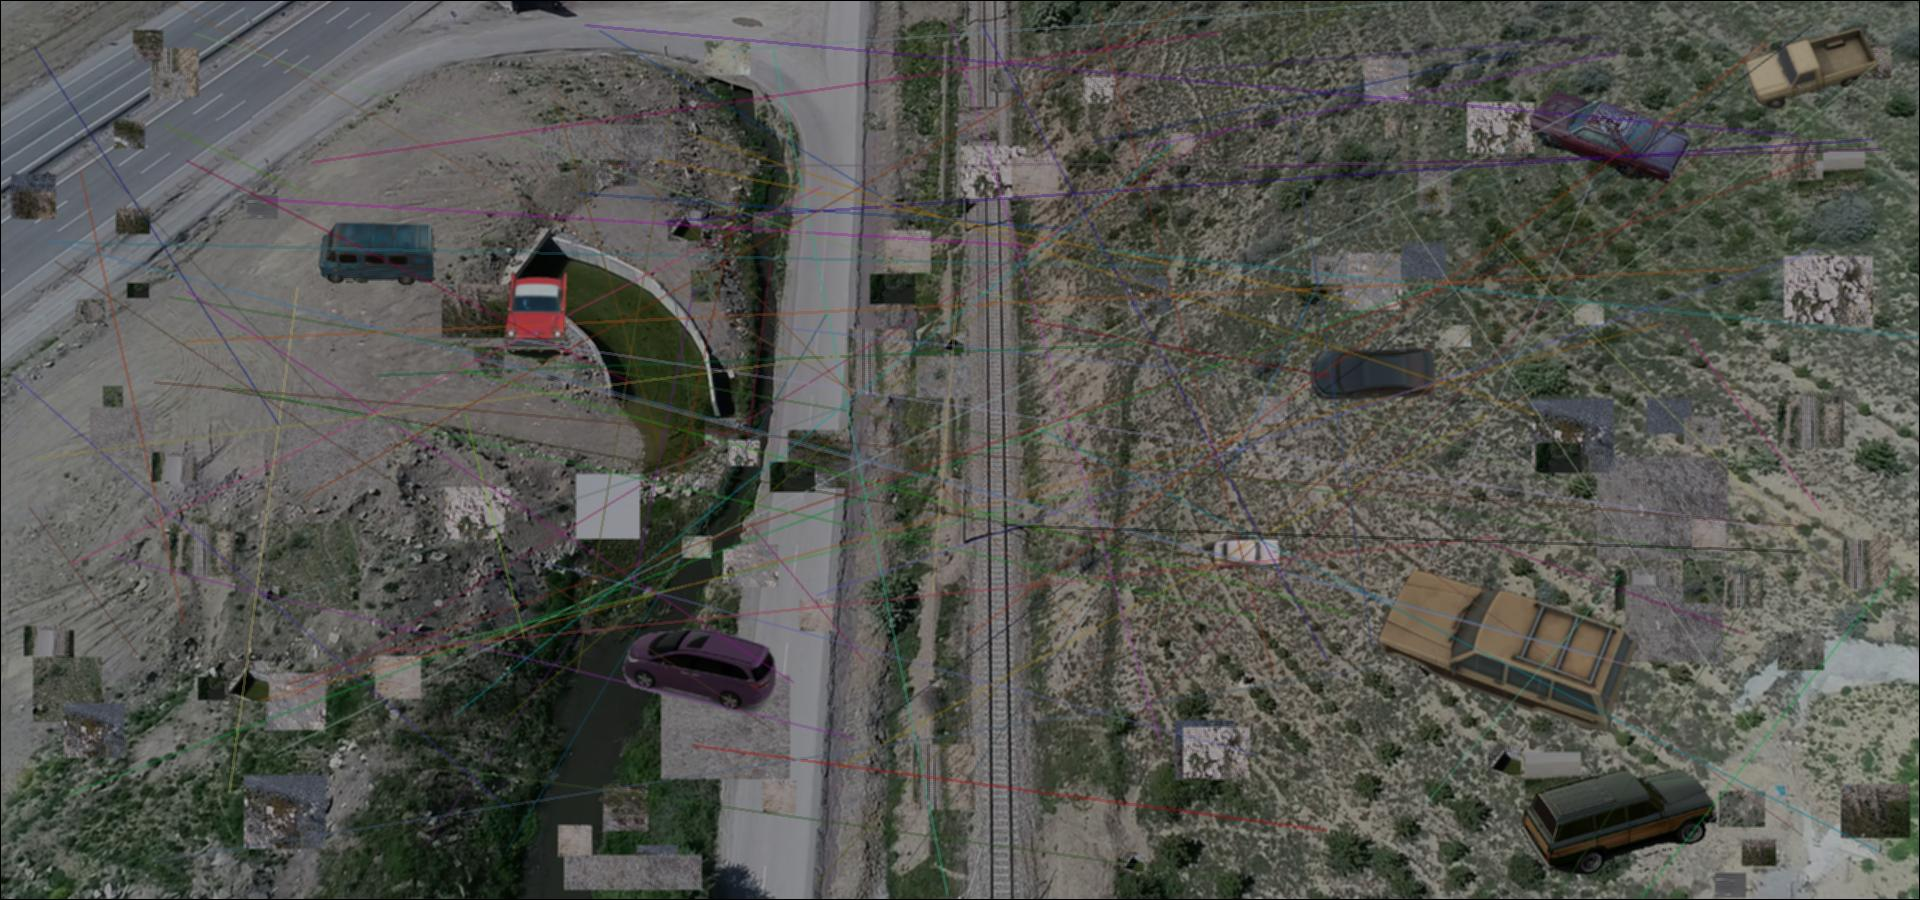arac: (1375, 560, 1641, 744), (1521, 770, 1718, 874), (1527, 84, 1693, 184), (622, 627, 779, 715), (1742, 24, 1880, 111), (1309, 347, 1440, 405), (320, 223, 436, 287), (504, 272, 571, 360), (1209, 536, 1284, 571)
